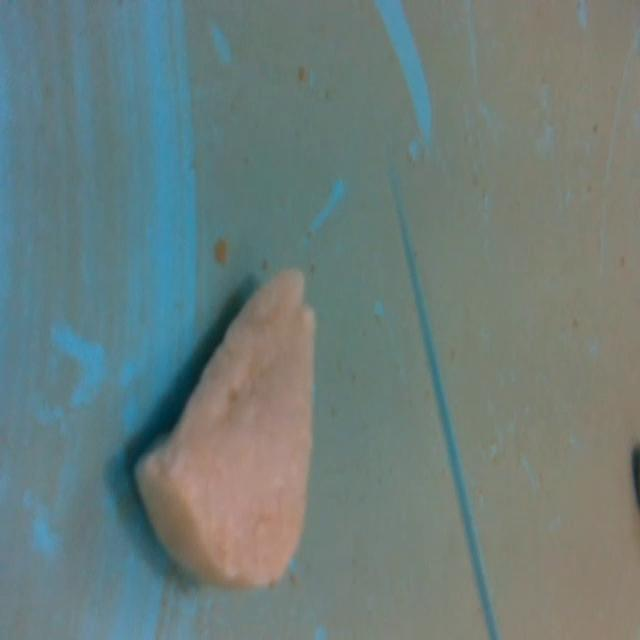rock: (126, 258, 328, 601)
